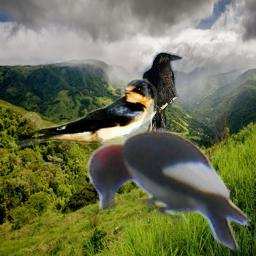Crow: (142, 52, 183, 144)
Swallow: (9, 78, 157, 155)
Woodpecker: (82, 126, 254, 254)
